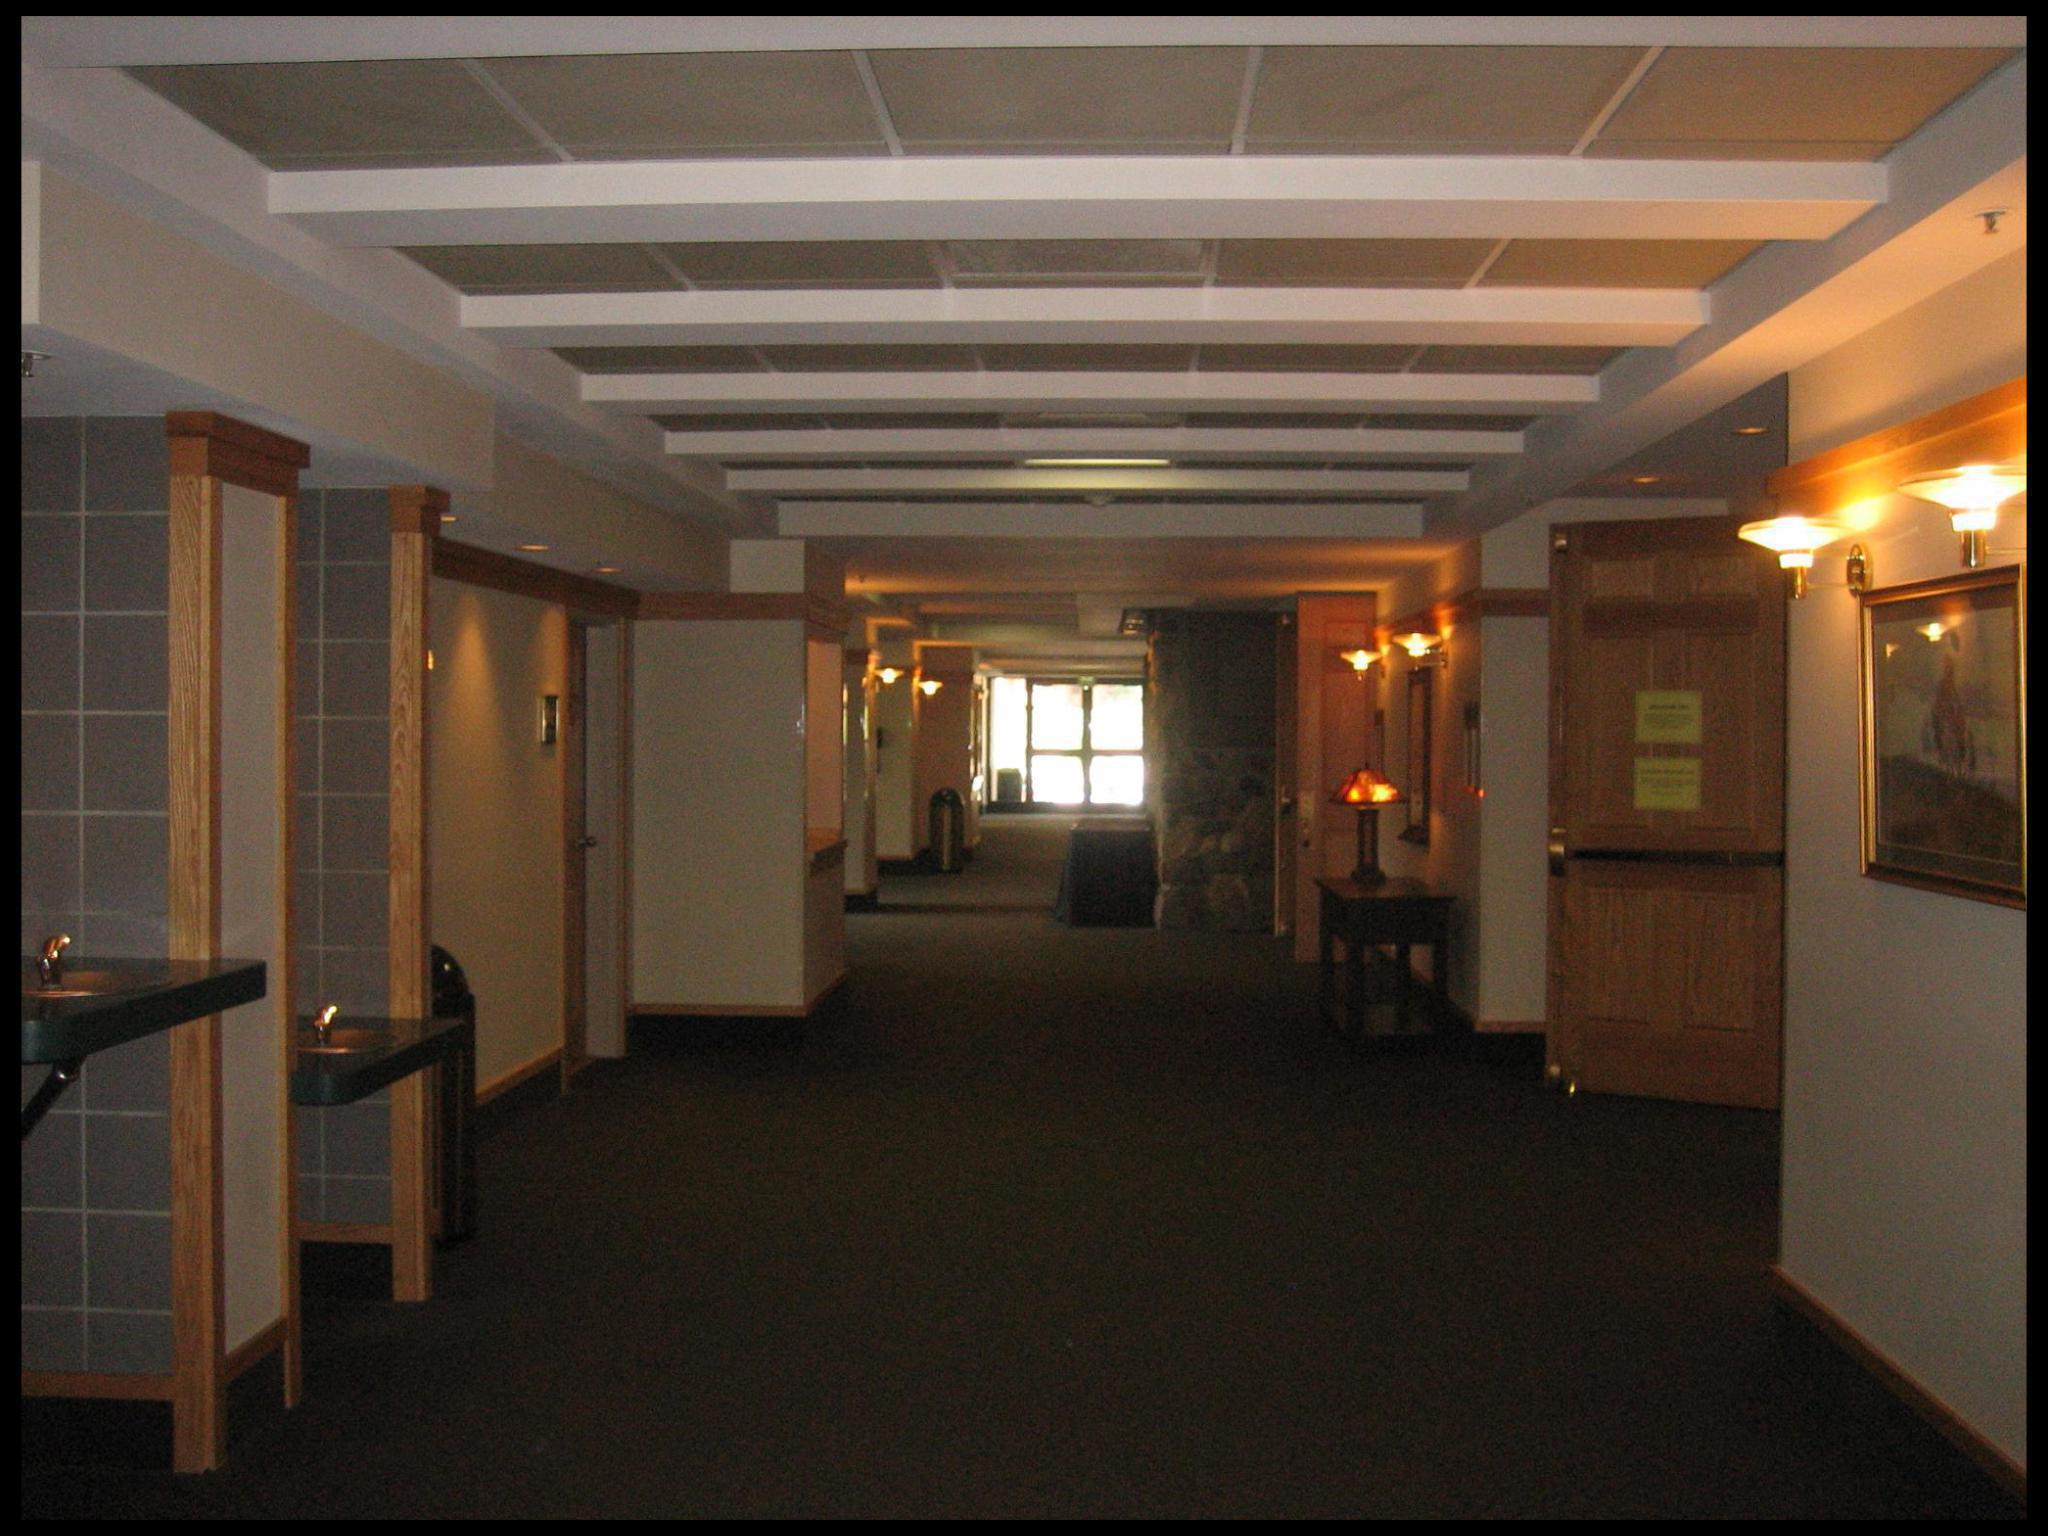Bote de Basura: (926, 778, 963, 883)
Lavamanos: (23, 883, 248, 1055), (281, 979, 427, 1105)
Puerta: (1543, 532, 1788, 1099)
